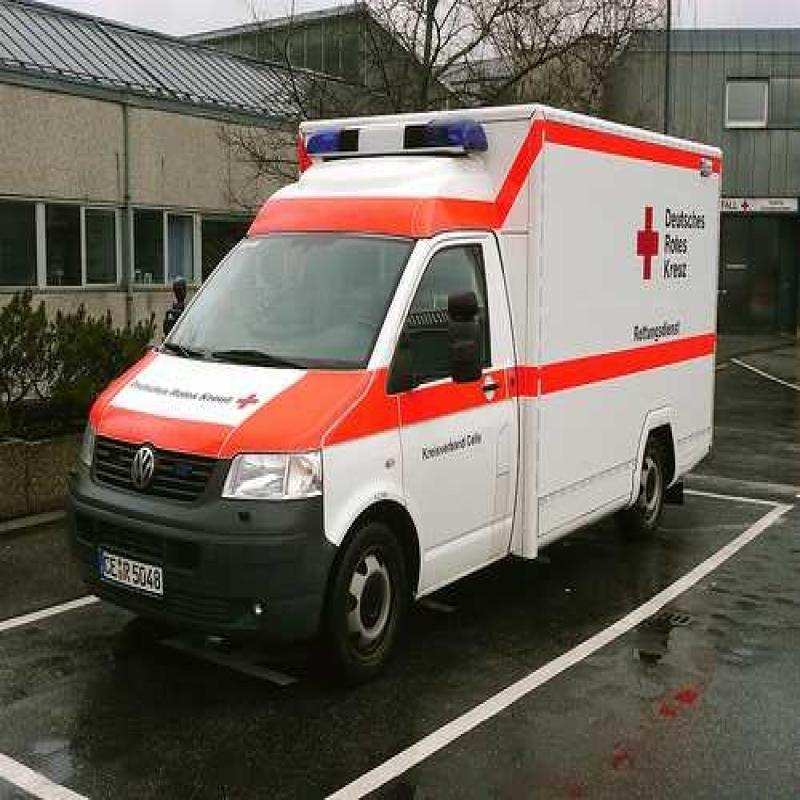AmbulanceSiren: (295, 107, 497, 177)
